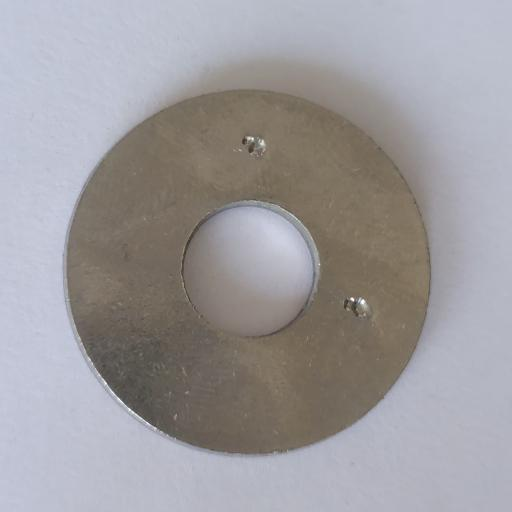circular_cavity: (241, 133, 268, 159), (344, 295, 373, 319)
